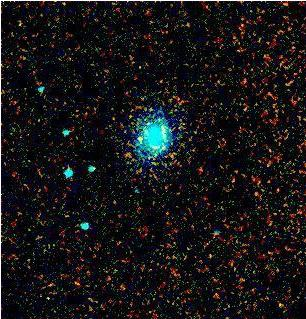star: (126, 124, 156, 154)
